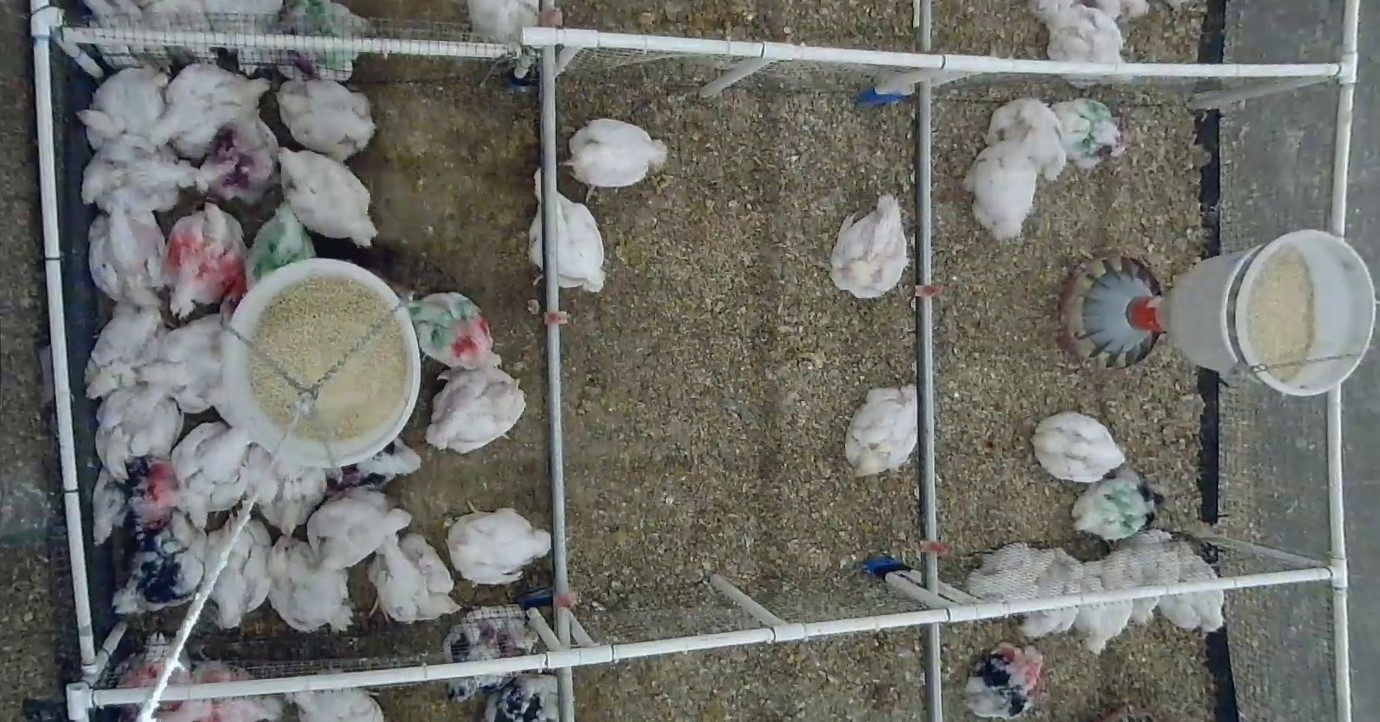chicken: (155, 64, 271, 156), (276, 147, 378, 247), (113, 511, 208, 615), (164, 202, 247, 318), (257, 0, 377, 80), (530, 169, 606, 292), (141, 314, 235, 413), (443, 606, 539, 701), (309, 487, 412, 575), (81, 136, 199, 212), (173, 422, 253, 532), (448, 501, 551, 585), (95, 386, 184, 483), (426, 368, 525, 454), (369, 533, 462, 623), (89, 209, 168, 313), (269, 536, 352, 634), (275, 79, 375, 159), (830, 195, 906, 298), (198, 111, 278, 208), (401, 291, 501, 368), (78, 66, 168, 151), (92, 457, 176, 546), (86, 308, 166, 400), (202, 520, 269, 629), (563, 119, 667, 186), (966, 140, 1036, 239), (251, 448, 327, 539), (111, 633, 191, 717), (847, 384, 918, 477), (1053, 7, 1133, 89), (79, 0, 174, 69), (1032, 412, 1125, 482), (988, 97, 1066, 180), (245, 203, 315, 294), (1073, 469, 1164, 538), (1105, 531, 1171, 626), (1161, 542, 1229, 631), (965, 643, 1044, 719), (203, 0, 283, 75), (143, 659, 231, 722), (967, 543, 1055, 604), (1022, 548, 1083, 636), (289, 668, 386, 722), (136, 0, 219, 63), (1076, 561, 1132, 654), (1051, 98, 1126, 167), (204, 665, 286, 722), (331, 435, 420, 487), (484, 674, 562, 722), (466, 0, 540, 44), (1097, 0, 1150, 22), (1030, 0, 1079, 23)
